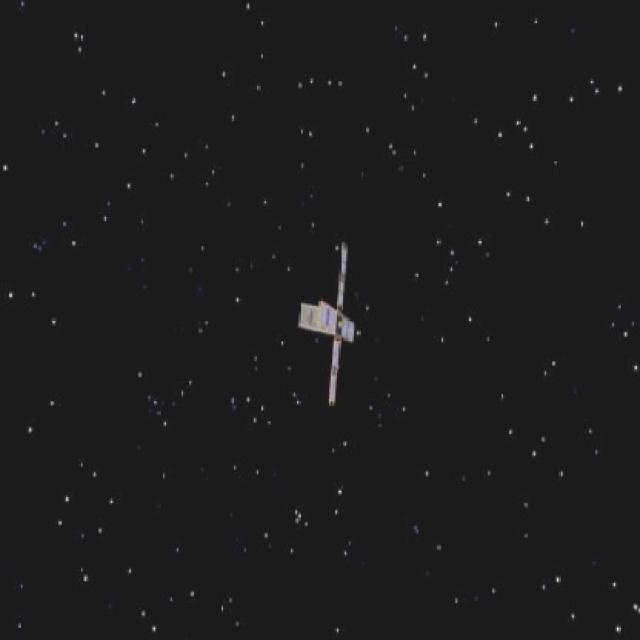medium_debris: (293, 236, 366, 409)
